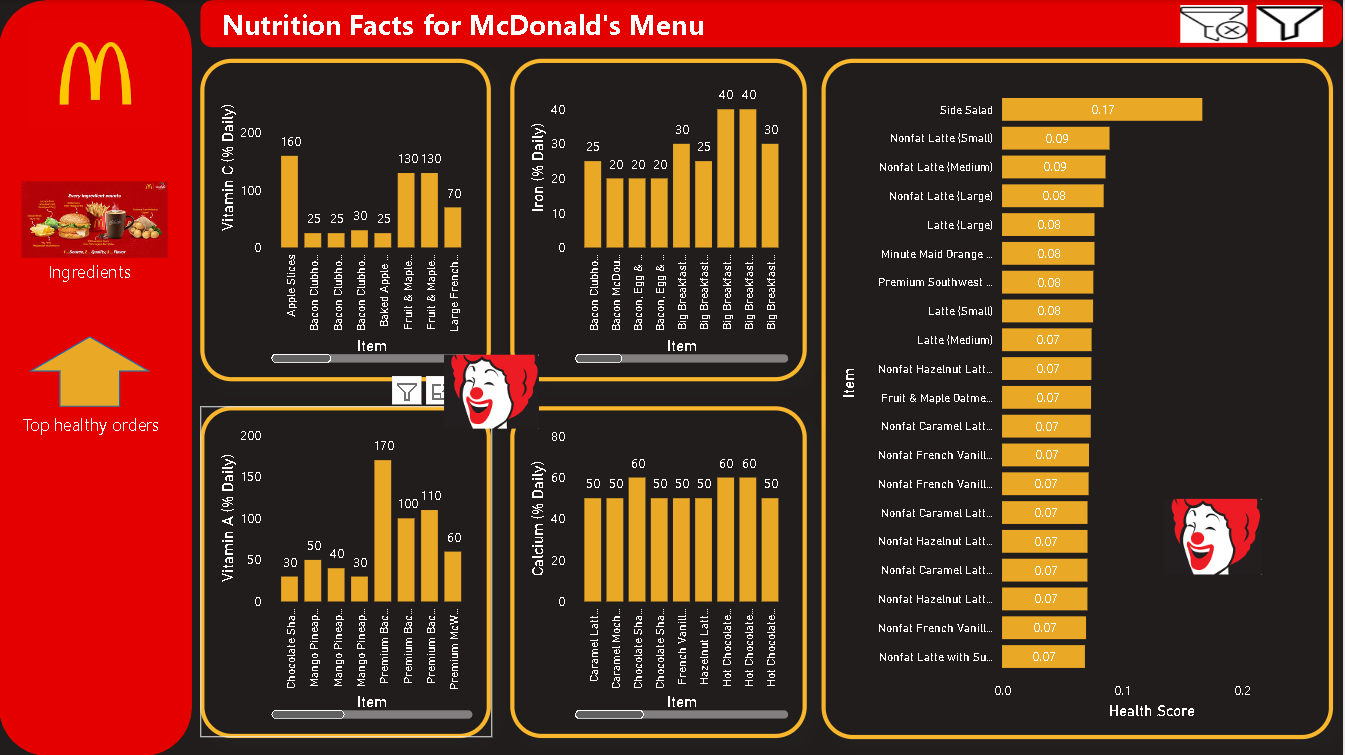

The dashboard page shown, as its layout file describes it:
{"tool":"powerbi","page":{"name":"Vitamins & Top healthy orders","canvas":[1280,720],"ordinal":2},"visuals":[{"type":"shape","box":[191.7,0,1088.1,45.2],"z":0},{"type":"shape","box":[0,0,183.8,720],"z":1000},{"type":"shape","box":[956.7,56.7,323.8,330],"z":1000,"group":"g1"},{"type":"textbox","box":[207.1,0,525,56],"z":2000},{"type":"slicer","fields":{"Values":["1_(EDA) on Retail Sales Data.Category"]},"box":[966.7,67.8,300,300],"z":2000,"group":"g1"},{"type":"image","box":[23.8,14.3,135.7,113.1],"z":3000},{"type":"image","box":[1230,60.9,50.9,41.8],"z":3000,"group":"g1"},{"type":"image","box":[16.2,167.5,148.8,82.5],"z":4000},{"type":"textbox","box":[41.2,241.2,100,33.8],"z":5000},{"type":"image","box":[1193.3,0,73.3,45],"z":6000},{"type":"image","box":[1104.6,461.1,102.9,101.5],"z":9000},{"type":"textbox","box":[17.5,387.5,156.2,35],"z":10000},{"type":"shape","box":[28.8,320,116.2,67.5],"z":11000},{"type":"barChart","fields":{"Category":["1_(EDA) on Retail Sales Data.Item"],"Y":["1_(EDA) on Retail Sales Data.Health Score"]},"box":[783.5,56.3,487.1,647.7],"z":12000},{"type":"image","box":[1120.3,0,73.4,45.6],"z":16000},{"type":"clusteredColumnChart","fields":{"Category":["1_(EDA) on Retail Sales Data.Item"],"Y":["Sum(1_(EDA) on Retail Sales Data.Vitamin C (% Daily Value))"]},"box":[192.1,56.3,277.2,307.4],"z":17000},{"type":"clusteredColumnChart","fields":{"Category":["1_(EDA) on Retail Sales Data.Item"],"Y":["Sum(1_(EDA) on Retail Sales Data.Iron (% Daily Value))"]},"box":[487.1,56.3,282.7,307.4],"z":18000},{"type":"clusteredColumnChart","fields":{"Category":["1_(EDA) on Retail Sales Data.Item"],"Y":["Sum(1_(EDA) on Retail Sales Data.Calcium (% Daily Value))"]},"box":[487.1,387,282.7,315.6],"z":19000},{"type":"clusteredColumnChart","fields":{"Category":["1_(EDA) on Retail Sales Data.Item"],"Y":["Sum(1_(EDA) on Retail Sales Data.Vitamin A (% Daily Value))"]},"box":[192.1,387,277.2,315.6],"z":20000},{"type":"image","box":[418.5,322.5,100.2,100.2],"z":20500},{"type":"group","id":"g1","title":"Group 2","box":[956.7,56.7,324.2,330],"z":21000}]}

Visuals, with their boxes in screenshot pixels (x1, y1, x2, y2), scaled from the page's 1280x720 canvas onto the 1345x755 screenshot:
shape: 201,0,1344,47
shape: 0,0,193,754
shape: 1005,59,1344,405
textbox: 218,0,769,59
slicer - 1_(EDA) on Retail Sales Data.Category: 1016,71,1331,386
image: 25,15,168,134
image: 1292,64,1344,108
image: 17,176,173,262
textbox: 43,253,148,288
image: 1254,0,1331,47
image: 1161,484,1269,590
textbox: 18,406,183,443
shape: 30,336,152,406
barChart - 1_(EDA) on Retail Sales Data.Item x 1_(EDA) on Retail Sales Data.Health Score: 823,59,1335,738
image: 1177,0,1254,48
clusteredColumnChart - 1_(EDA) on Retail Sales Data.Item x Sum(1_(EDA) on Retail Sales Data.Vitamin C (% Daily Value)): 202,59,493,381
clusteredColumnChart - 1_(EDA) on Retail Sales Data.Item x Sum(1_(EDA) on Retail Sales Data.Iron (% Daily Value)): 512,59,809,381
clusteredColumnChart - 1_(EDA) on Retail Sales Data.Item x Sum(1_(EDA) on Retail Sales Data.Calcium (% Daily Value)): 512,406,809,737
clusteredColumnChart - 1_(EDA) on Retail Sales Data.Item x Sum(1_(EDA) on Retail Sales Data.Vitamin A (% Daily Value)): 202,406,493,737
image: 440,338,545,443
"Group 2" group: 1005,59,1344,405
